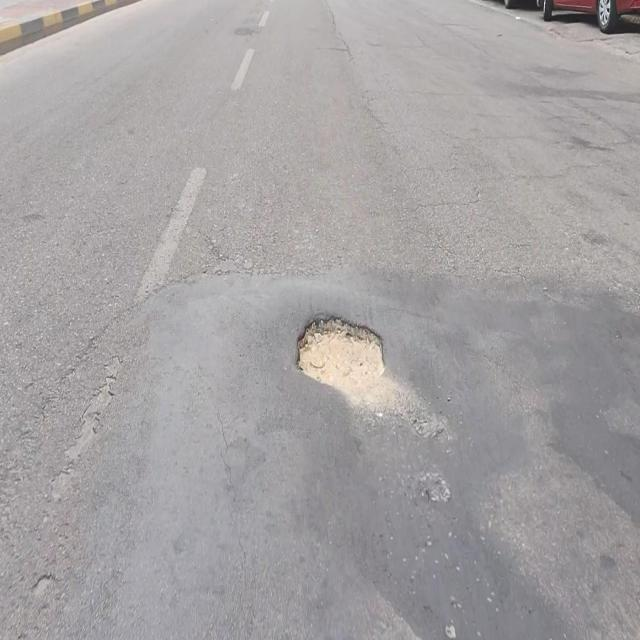Potholes: (294, 308, 389, 399)
